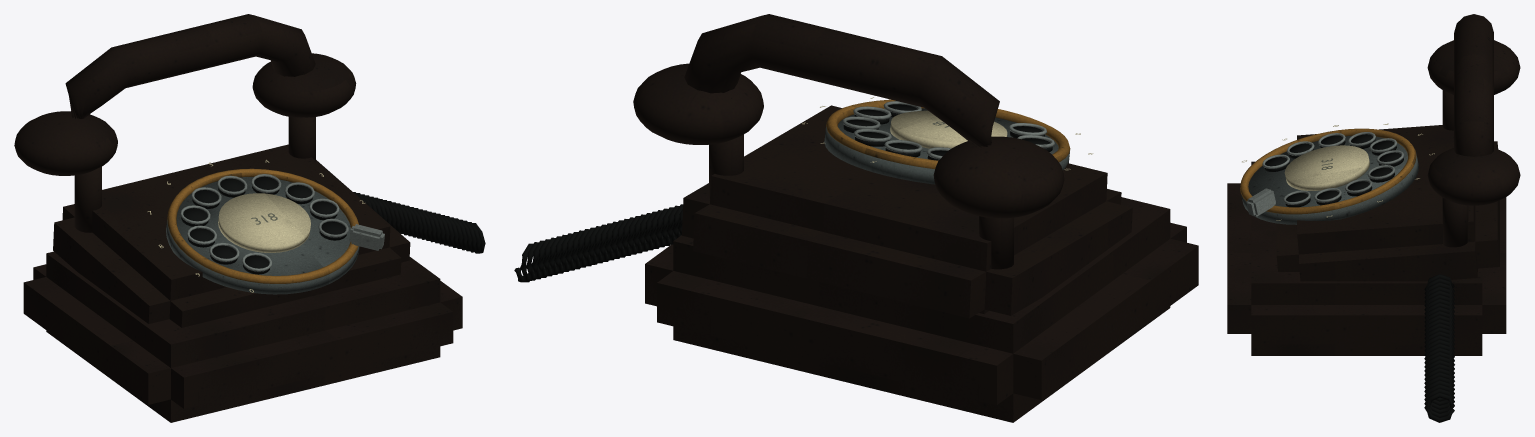
The model's file is rotary_telephone.glb.
The picture shows the model from 3 angles, left to right: view 1: azimuth 30°, elevation 25°; view 2: azimuth 150°, elevation 25°; view 3: azimuth 270°, elevation 25°; orthographic projection. The views are drawn at different scales.
Visible parts, largest first — view 1: HC02_rotary_telephone; view 2: HC02_rotary_telephone; view 3: HC02_rotary_telephone.
Boxes of the visible parts, box(x1,y1,x2,y2) form: HC02_rotary_telephone: box(14, 14, 485, 422); HC02_rotary_telephone: box(514, 14, 1198, 422); HC02_rotary_telephone: box(1227, 14, 1520, 422).
Size of the model in its own units: 0.3296 by 0.1961 by 0.205.
Materials: 9 (7 with a texture image).
